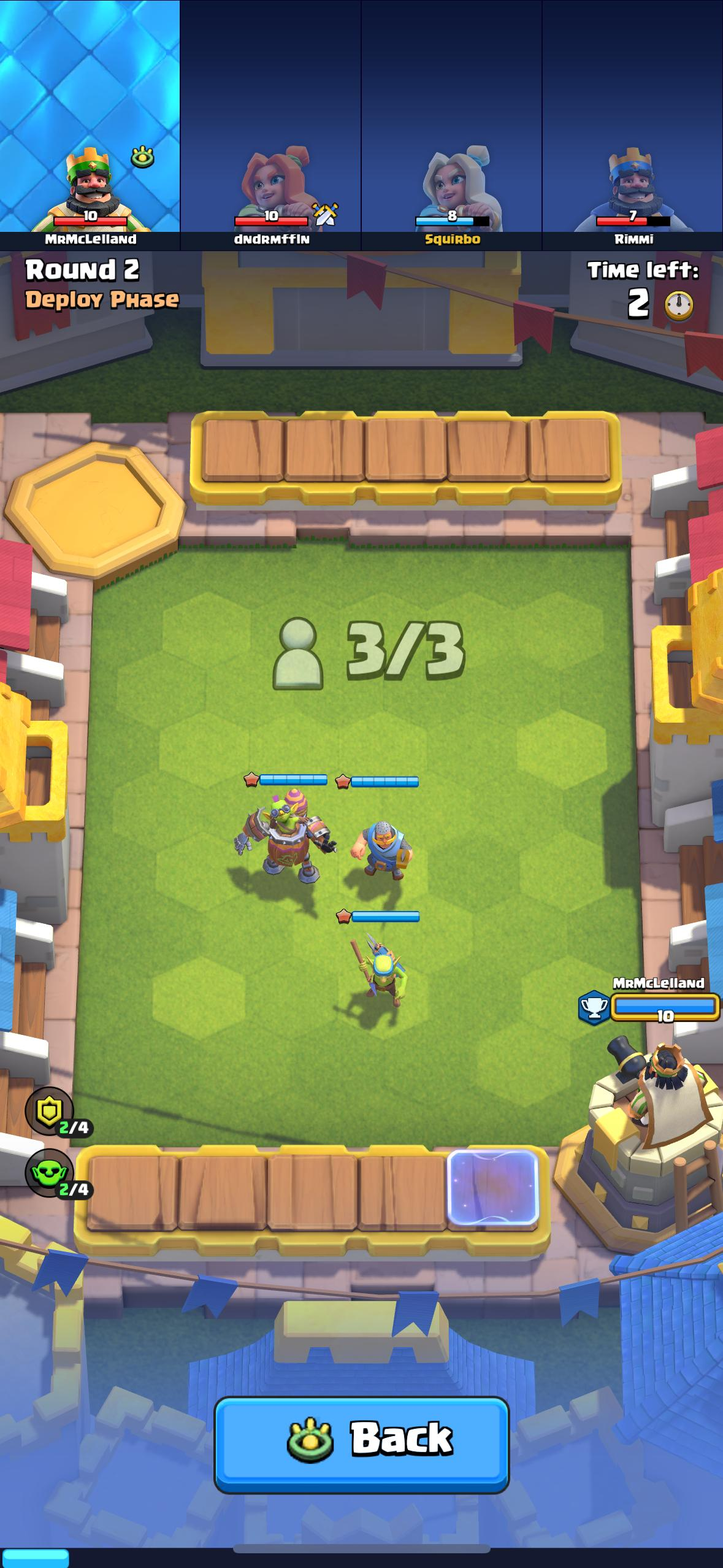knight: (352, 808, 416, 887)
machine: (243, 787, 337, 885)
spear: (346, 926, 412, 1008)
